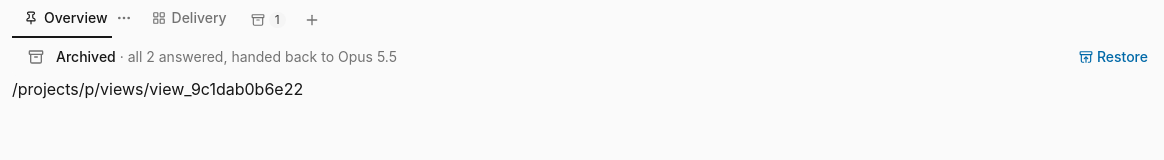
archived views › leave the tab row for Archived in the menu, and restore ending the hand-back
Expected: the link "Garden review" is not shown
Click the button named "Archived (1)" at point(268, 20), box [243, 6, 294, 34]
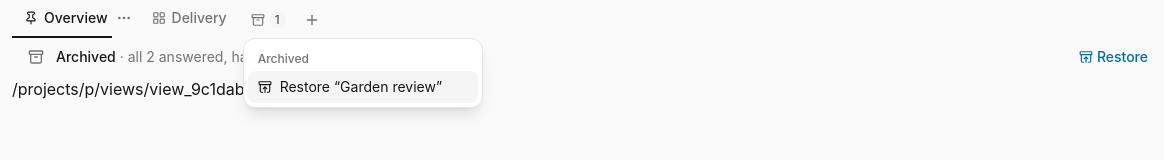
Expected: the text "Archived" is shown, [258, 51, 309, 66]
Click the menu item "Restore “Garden review”" at point(363, 87), box [248, 71, 478, 103]
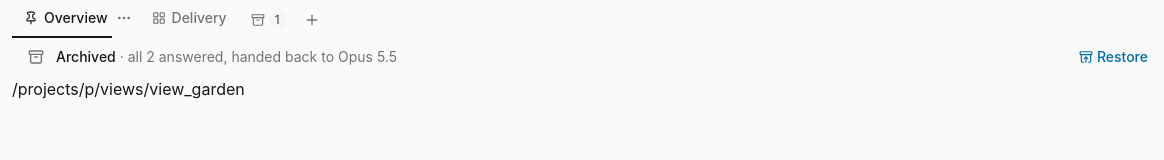
Expected: the text with test id "path" reads "/projects/p/views/view_garden", [12, 79, 245, 99]
